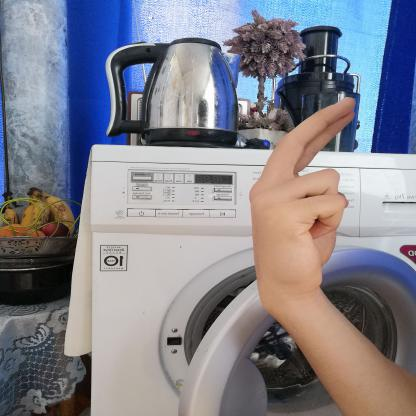ZAY: (240, 89, 370, 301)
